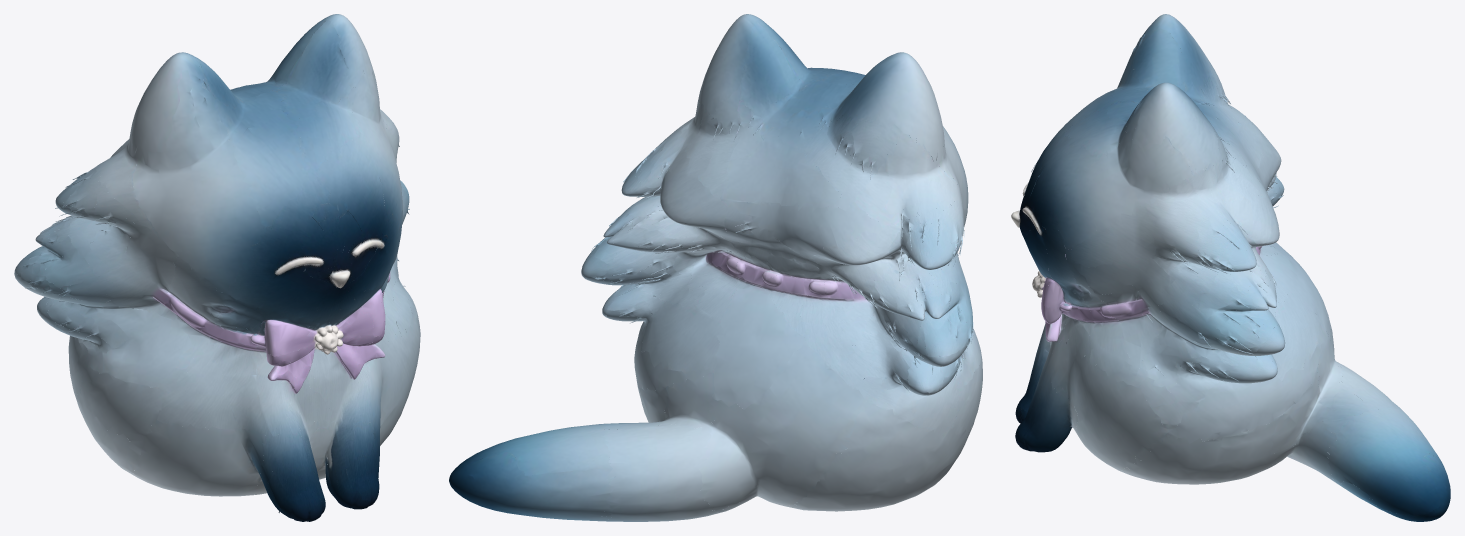
Rendered from pearl-bow-B1PKlQui.glb.
3 renders of one model, left to right at view 1: azimuth 30°, elevation 25°; view 2: azimuth 150°, elevation 25°; view 3: azimuth 270°, elevation 25°, orthographic. The views are drawn at different scales.
Visible parts, largest first — view 1: worn-pearl-bow; view 2: worn-pearl-bow; view 3: worn-pearl-bow.
Part boxes in pixels (x1,y1,x2,y2): worn-pearl-bow: (14, 14, 420, 521); worn-pearl-bow: (449, 14, 982, 521); worn-pearl-bow: (1011, 14, 1450, 521).
Size of the model in its own units: 1.89 by 1.83 by 1.89.
Materials: 1 (1 with a texture image).
